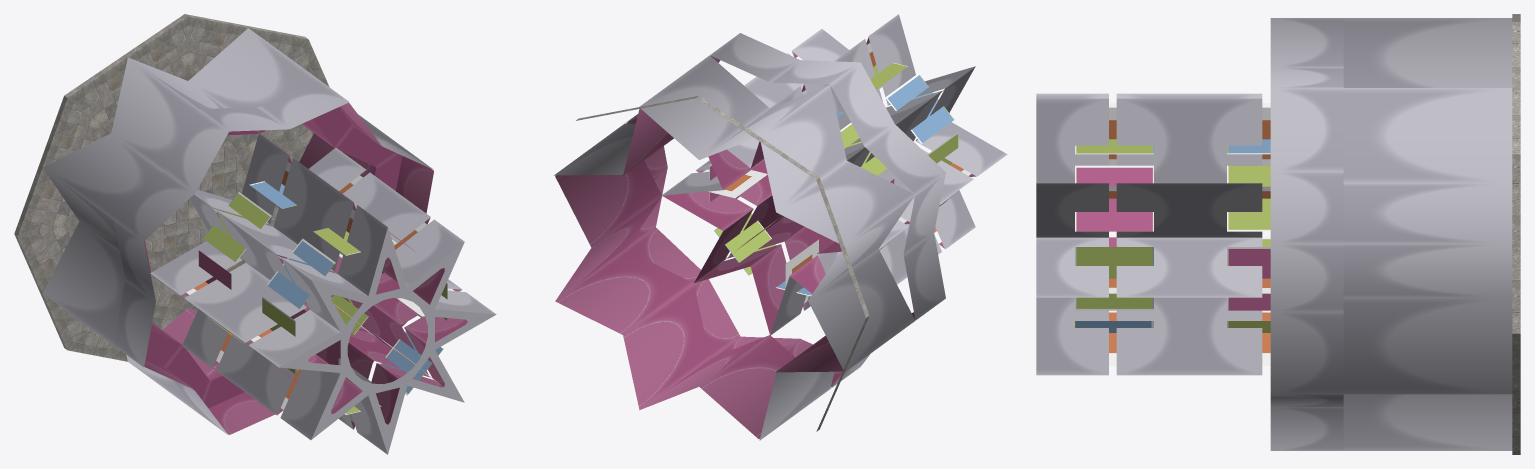
File: sgy_ydhj_05.gltf
The picture shows the model from 3 angles, left to right: view 1: azimuth 30°, elevation 25°; view 2: azimuth 150°, elevation 25°; view 3: azimuth 270°, elevation 25°; orthographic projection. The views are drawn at different scales.
Visible parts, largest first — view 1: Cylinder001; view 2: Cylinder001; view 3: Cylinder001.
Part boxes in pixels (<box>): Cylinder001: <box>14,14,496,454</box>; Cylinder001: <box>554,14,1007,440</box>; Cylinder001: <box>1036,14,1520,454</box>.
Size of the model in its own units: 10 by 10 by 10.32.
Materials: 4 (4 with a texture image).
